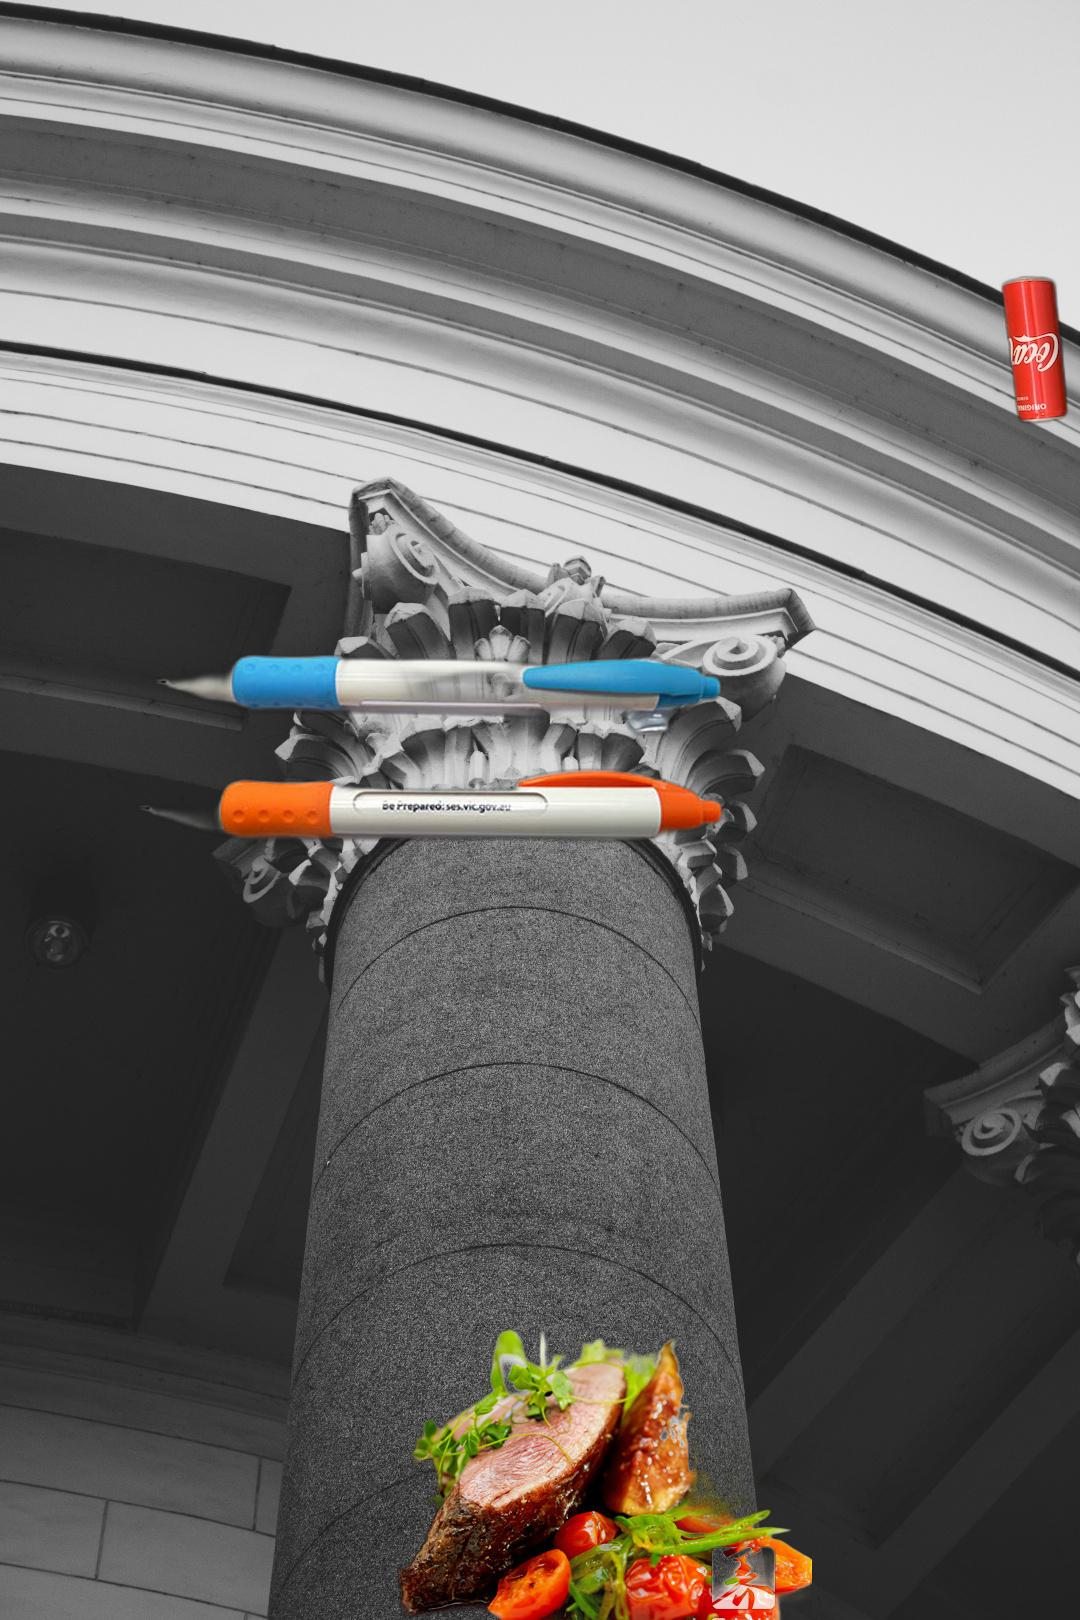biological: (312, 1330, 812, 1620)
metal-cans: (997, 270, 1072, 429)
penholder: (133, 648, 728, 849)
